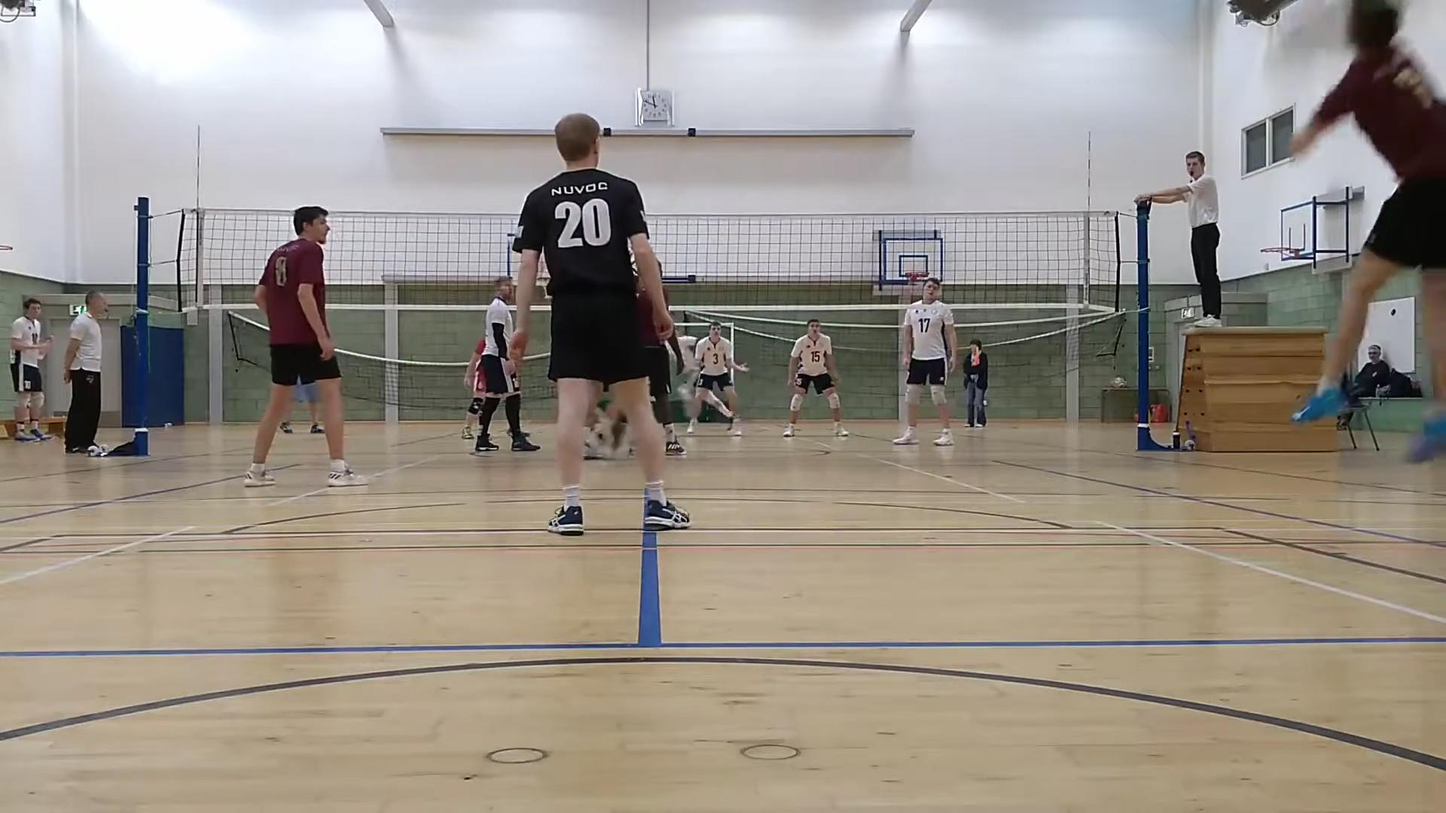Player: (509, 114, 689, 534), (244, 207, 367, 486), (474, 277, 538, 453), (893, 278, 957, 446), (638, 286, 685, 455), (784, 319, 848, 437), (688, 321, 748, 436), (462, 336, 486, 439), (291, 382, 323, 433)
Serve: (1273, 0, 1446, 471)
